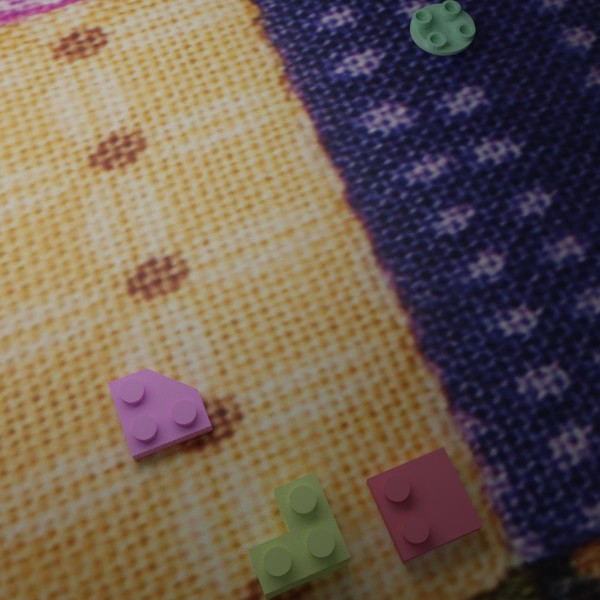lego: (366, 446, 483, 563), (247, 471, 351, 599), (107, 368, 212, 460), (410, 0, 475, 55)
